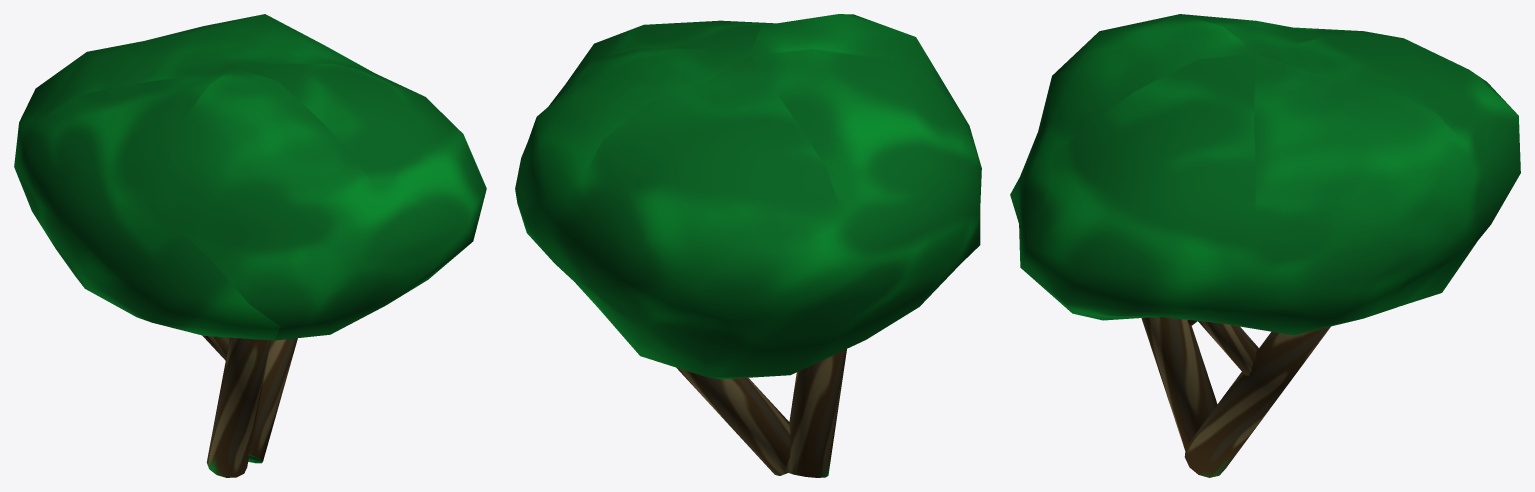
The model's file is bush.obj.
3 views of the same model, side by side, from view 1: azimuth 30°, elevation 25°; view 2: azimuth 150°, elevation 25°; view 3: azimuth 270°, elevation 25° (orthographic). The views are drawn at different scales.
Parts seen in each view (by area): view 1: Icosphere; view 2: Icosphere; view 3: Icosphere.
Part boxes in pixels (left/top/right/bottom): Icosphere: left=14, top=14, right=486, bottom=477; Icosphere: left=515, top=14, right=981, bottom=477; Icosphere: left=1010, top=14, right=1520, bottom=477.
Size of the model in its own units: 2.09 by 2.09 by 2.24.
Materials: 1 (1 with a texture image).
